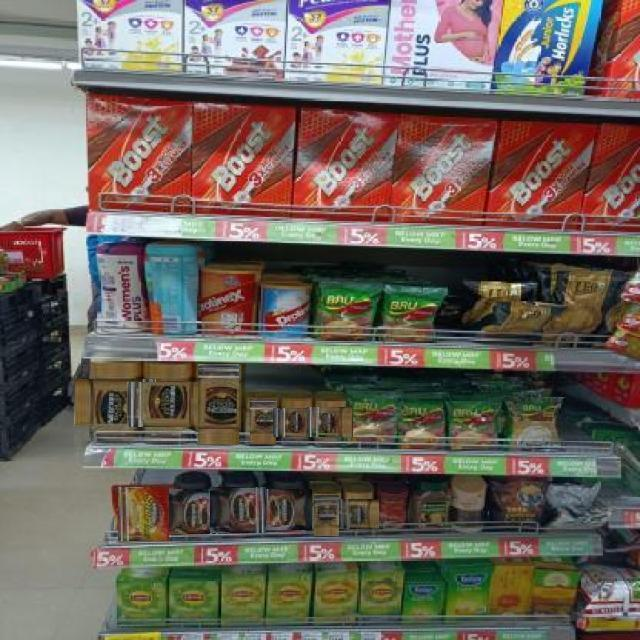Coffee: (75, 379, 156, 426), (127, 382, 207, 426), (198, 364, 239, 445), (117, 487, 169, 541), (211, 486, 266, 533), (165, 488, 220, 534), (259, 490, 312, 530), (306, 408, 353, 437), (337, 499, 379, 529), (249, 398, 276, 444), (273, 409, 317, 437), (313, 494, 339, 536)
